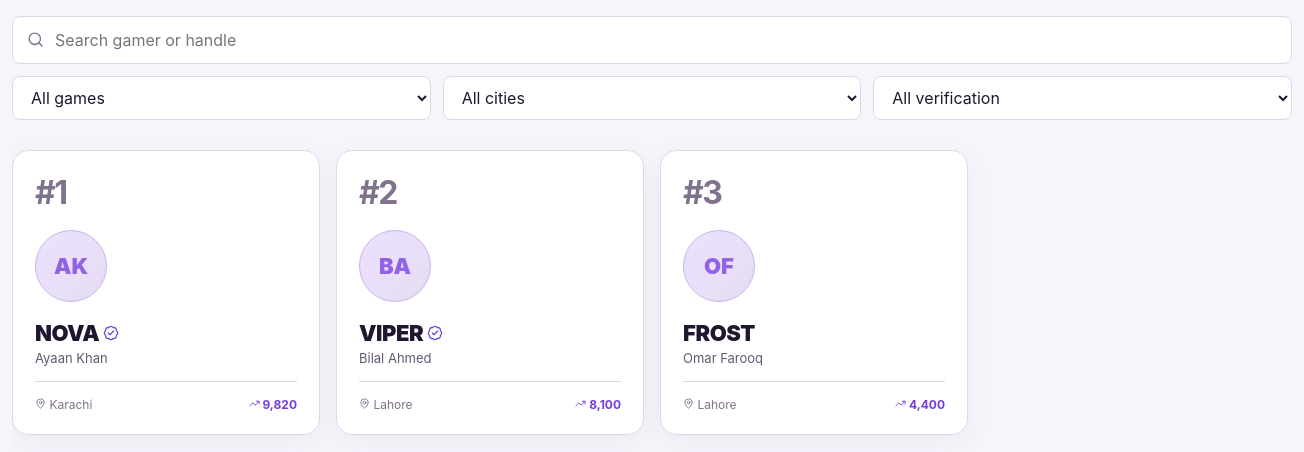
Test: GamerDirectory › uses a full-row search and three working dropdown filters
The width and height of the screenshot is (1304, 452).
Select "Lahore" in the dropdown named "Filter rankings by city" at (652,98), box [443,76,861,120]
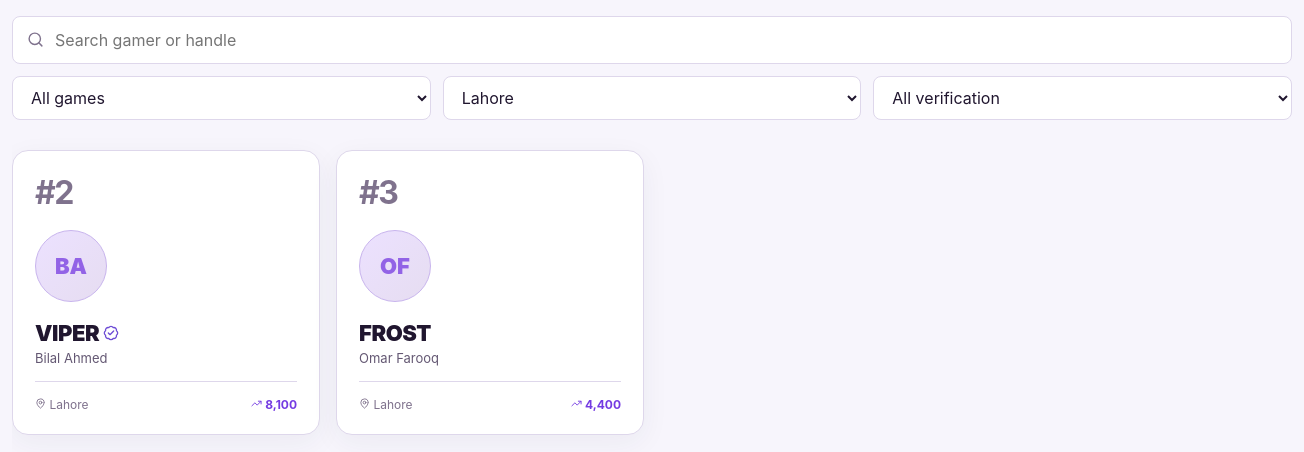
Expected: the link "#2 BA VIPER Bilal Ahmed Lahore 8,100" is shown, [12,150,320,435]
Result: the link "NOVA" is gone
